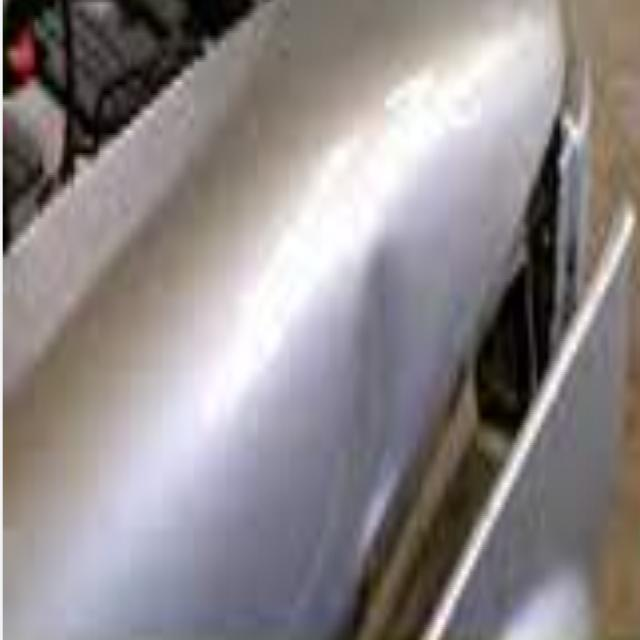dents: (344, 249, 414, 486)
